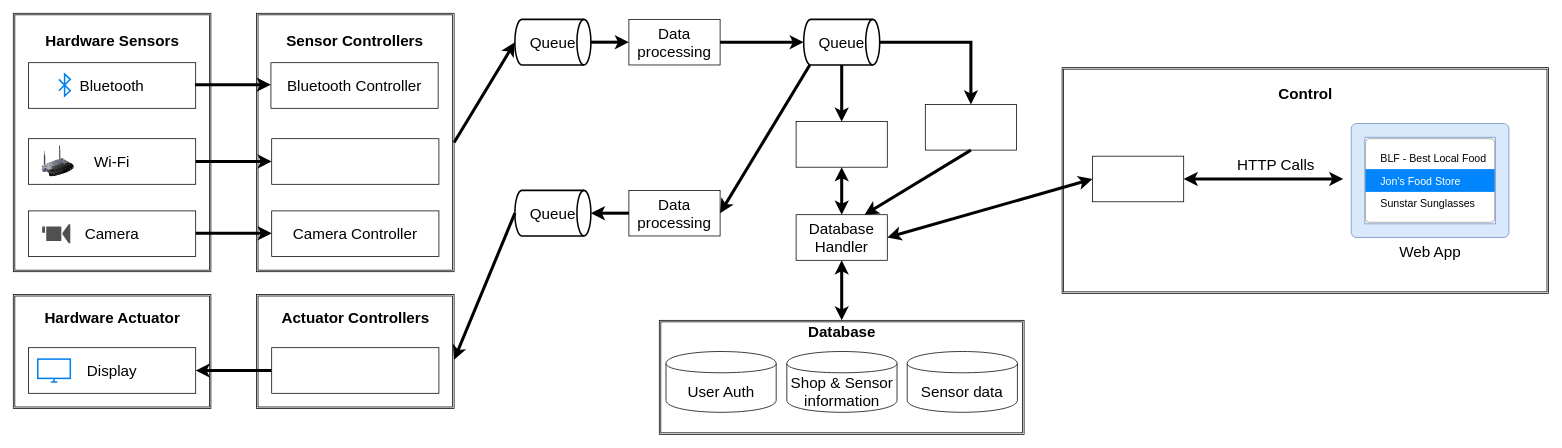
Image size: 1562x448. Some labels were removed from this diagram. The centre of each missing label's shape, as x and y in pixels:
AI Planning service: point (841, 144)
Data service: point (970, 127)
Display Controller: point (355, 370)
Frontend service: point (1138, 178)
Wi-Fi Controller: point (355, 161)
